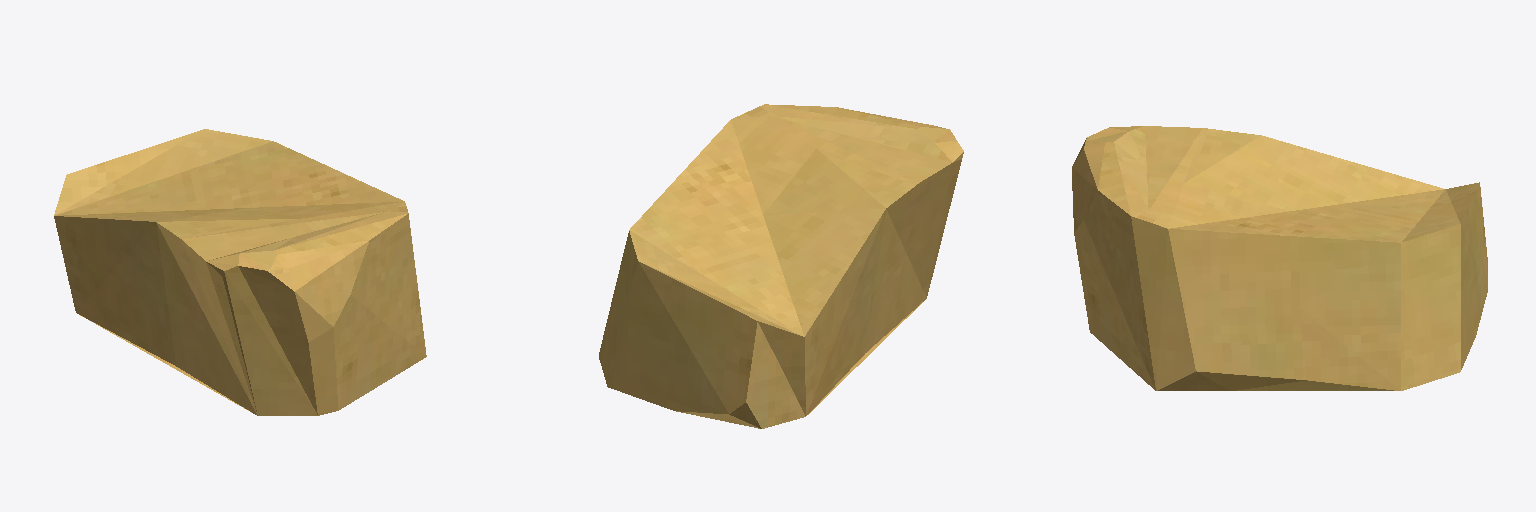
3 views of the same model, side by side, from view 1: azimuth 30°, elevation 25°; view 2: azimuth 150°, elevation 25°; view 3: azimuth 270°, elevation 25° (orthographic).
Visible parts, largest first — view 1: Mesh1 Model; view 2: Mesh1 Model; view 3: Mesh1 Model.
Boxes of the visible parts, x1,y1,x2,y2 form: Mesh1 Model: [54, 129, 426, 415]; Mesh1 Model: [599, 104, 963, 428]; Mesh1 Model: [1072, 126, 1487, 390].
Size of the model in its own units: 11.69 by 7.69 by 17.67.
Materials: 1 (1 with a texture image).